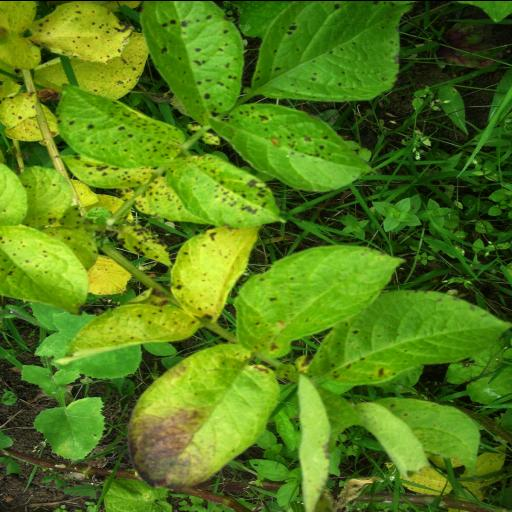disease_tomato: (304, 287, 512, 394), (232, 236, 412, 356), (246, 0, 416, 103), (199, 106, 375, 197), (44, 90, 212, 172), (140, 0, 248, 120), (156, 152, 288, 224), (62, 300, 210, 360), (170, 216, 258, 316), (0, 222, 88, 312), (32, 2, 133, 64), (112, 215, 174, 269)
